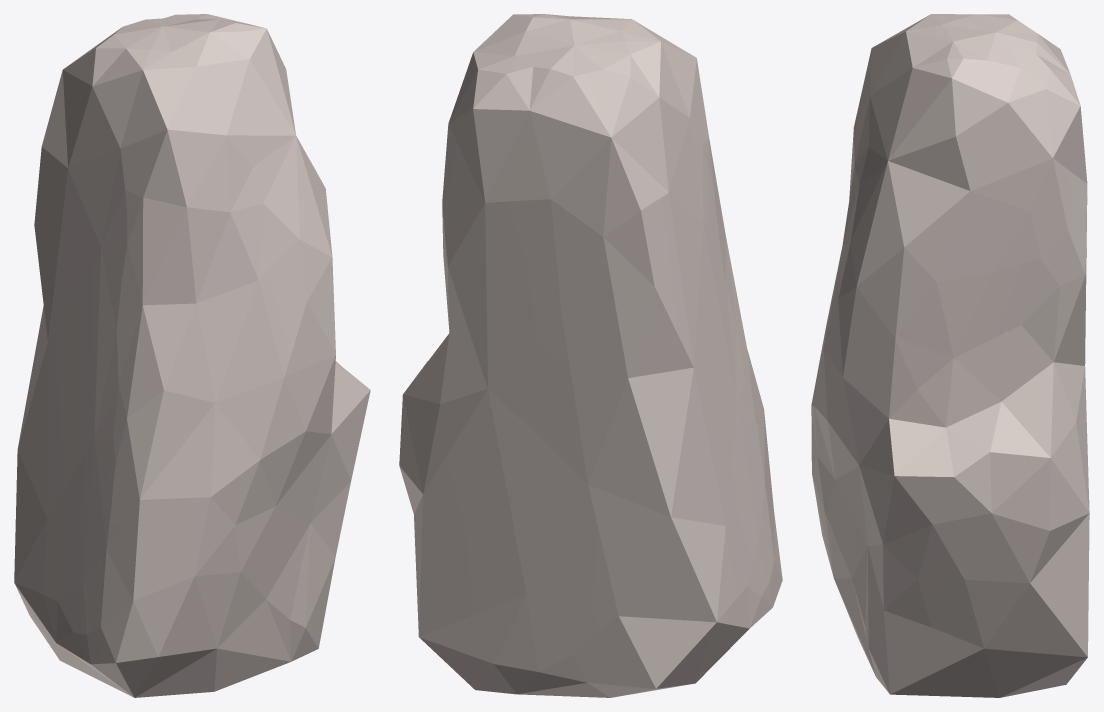
The model's file is rock_010.fbx.
3 renders of one model, left to right at view 1: azimuth 30°, elevation 25°; view 2: azimuth 150°, elevation 25°; view 3: azimuth 270°, elevation 25°, orthographic. The views are drawn at different scales.
Parts seen in each view (by area): view 1: rock.010; view 2: rock.010; view 3: rock.010.
Boxes of the visible parts, <box> form: rock.010: <box>14,14,370,697</box>; rock.010: <box>399,14,782,697</box>; rock.010: <box>811,14,1089,697</box>.
Size of the model in its own units: 927 by 1830 by 732.
1 material, 1 textured.
